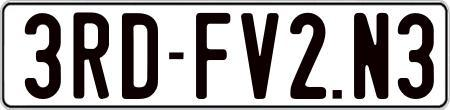2: (290, 12, 326, 102)
3: (395, 13, 435, 102), (23, 11, 62, 102)
D: (122, 13, 158, 101)
F: (195, 12, 232, 104)
N: (354, 13, 393, 105)
R: (73, 9, 113, 98)
V: (238, 11, 278, 98)
